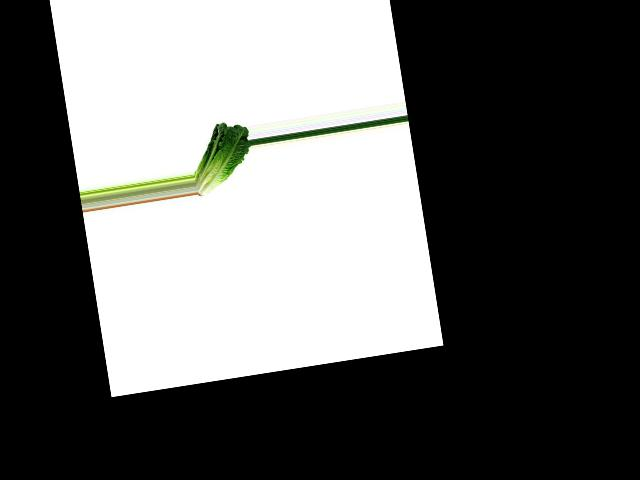lettuce: (186, 118, 256, 197)
